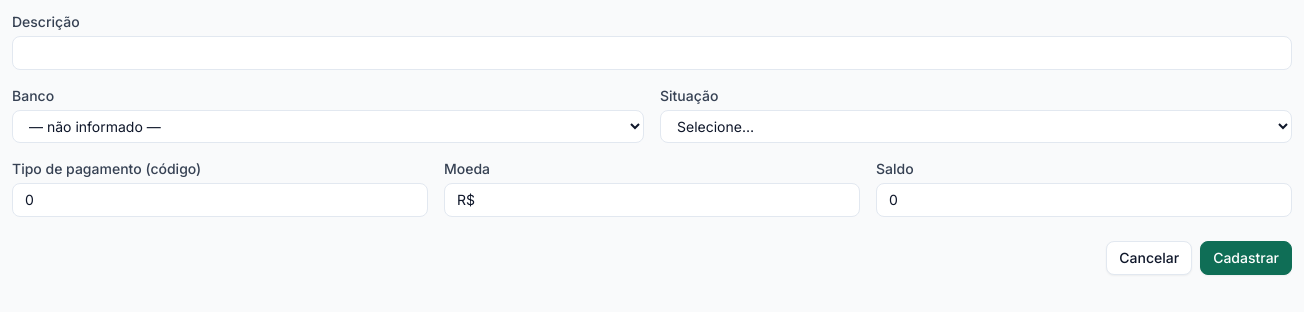
Test: FinancialAccountForm › exige situação ao submeter sem seleção
Type "Caixa" into the field labelled "Descrição" at (652, 53), box top-left (12, 36), bottom-right (1292, 70)
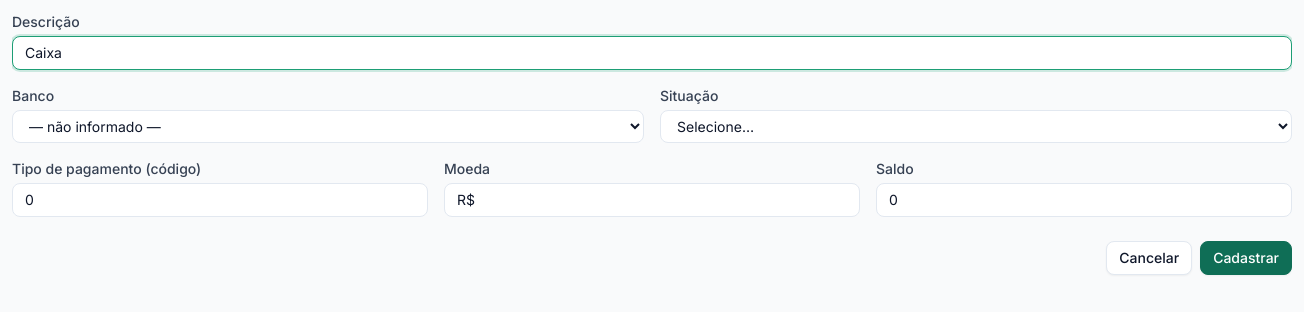
Click the button "Cadastrar" at (1246, 258), box top-left (1200, 241), bottom-right (1292, 275)
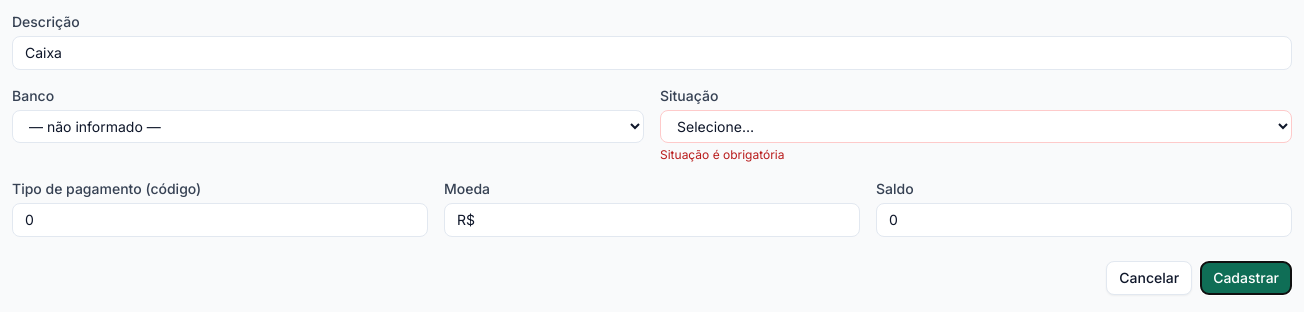
Expected: the text "Situação é obrigatória" is shown, top-left (660, 147), bottom-right (784, 162)
